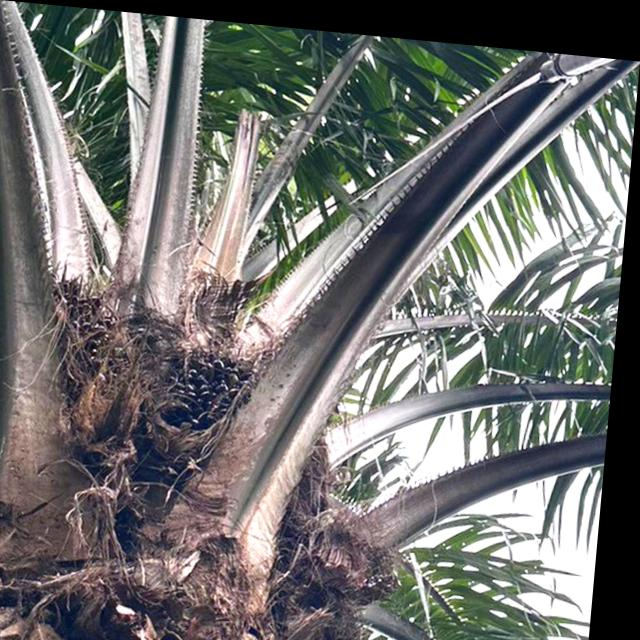unripe: (140, 327, 271, 453)
